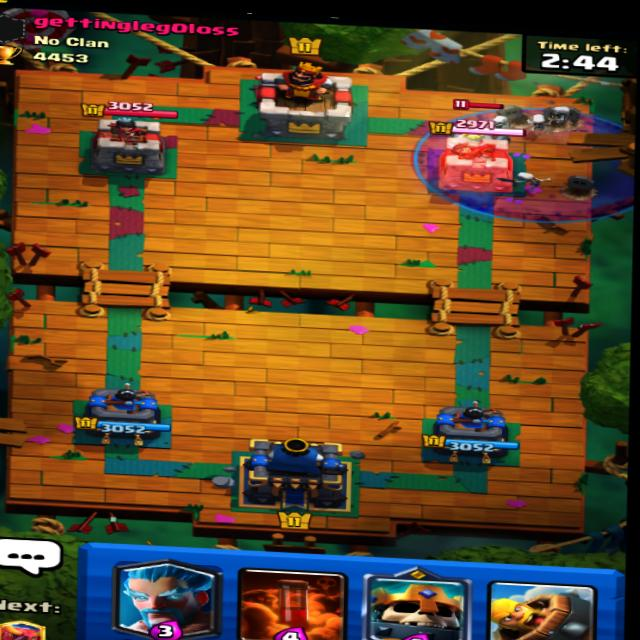royal-ghost: (447, 94, 514, 156)
